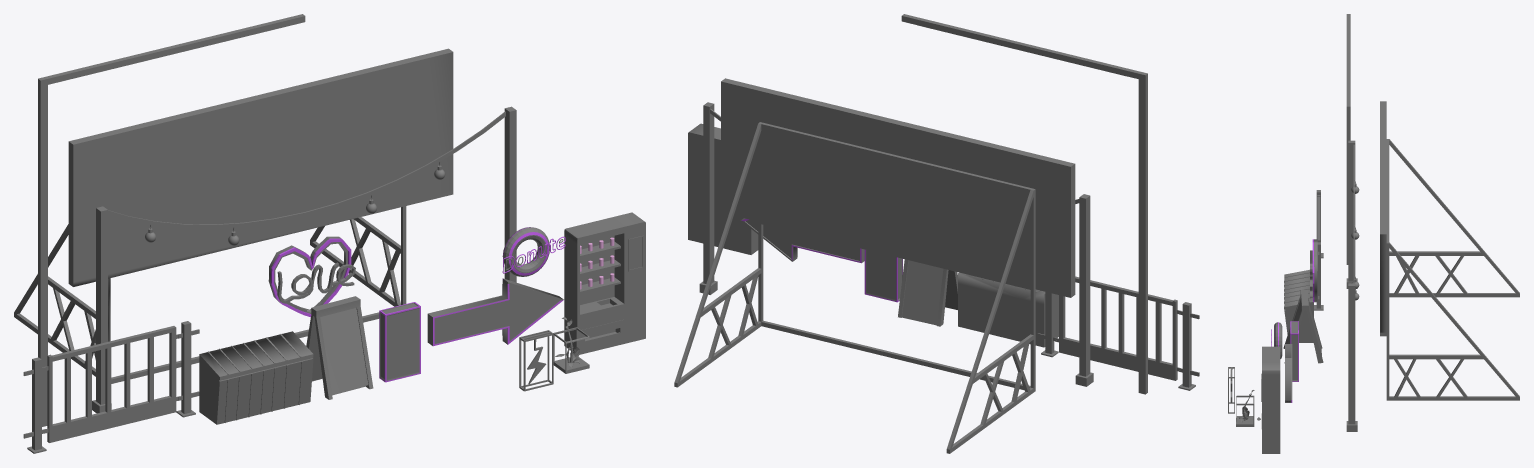
The model's file is Stage1_City Street_Environment Props.fbx.
3 views of the same model, side by side, from view 1: azimuth 30°, elevation 25°; view 2: azimuth 150°, elevation 25°; view 3: azimuth 270°, elevation 25° (orthographic). The views are drawn at different scales.
Parts seen in each view (by area): view 1: Props - Billboards 1, Props - Vending Machine, Props - Fence, Props - Rubbish Bin, Props - Hanging light bulbs, Props - Street light, Props - Advertising board 1, Props - Arrow, Props - Advertising board 2, Props - Donute, Props - Heart shape, Props - LOVE (+2 smaller); view 2: Props - Billboards 1, Props - Fence, Props - Street light, Props - Hanging light bulbs, Props - Rubbish Bin, Props - Vending Machine, Props - Advertising board 1, Props - Arrow, Props - Advertising board 2; view 3: Props - Billboards 1, Props - Hanging light bulbs, Props - Vending Machine, Props - Rubbish Bin, Props - Street light, Props - Advertising board 1, Props - Fence, Props - Advertising board 2, Props - Arrow, Props - Plant 1, Props - Heart shape.
Boxes of the visible parts, x1=… form: Props - Billboards 1: x1=14, y1=48, x2=453, y2=383; Props - Vending Machine: x1=564, y1=212, x2=645, y2=354; Props - Fence: x1=23, y1=321, x2=199, y2=453; Props - Rubbish Bin: x1=199, y1=331, x2=313, y2=424; Props - Hanging light bulbs: x1=92, y1=106, x2=516, y2=413; Props - Street light: x1=38, y1=14, x2=305, y2=426; Props - Advertising board 1: x1=306, y1=296, x2=373, y2=399; Props - Arrow: x1=427, y1=278, x2=563, y2=346; Props - Advertising board 2: x1=379, y1=302, x2=420, y2=382; Props - Donute: x1=502, y1=227, x2=565, y2=276; Props - Heart shape: x1=268, y1=236, x2=351, y2=317; Props - LOVE: x1=277, y1=262, x2=355, y2=303; Props - Billboards 1: x1=674, y1=78, x2=1075, y2=453; Props - Fence: x1=1037, y1=276, x2=1199, y2=390; Props - Street light: x1=901, y1=14, x2=1147, y2=394; Props - Hanging light bulbs: x1=699, y1=102, x2=1093, y2=386; Props - Rubbish Bin: x1=958, y1=272, x2=1058, y2=347; Props - Vending Machine: x1=688, y1=123, x2=758, y2=254; Props - Advertising board 1: x1=898, y1=259, x2=957, y2=326; Props - Arrow: x1=741, y1=218, x2=864, y2=263; Props - Advertising board 2: x1=864, y1=249, x2=902, y2=302; Props - Billboards 1: x1=1380, y1=101, x2=1519, y2=400; Props - Hanging light bulbs: x1=1346, y1=140, x2=1359, y2=431; Props - Vending Machine: x1=1261, y1=346, x2=1280, y2=453; Props - Rubbish Bin: x1=1284, y1=269, x2=1313, y2=342; Props - Street light: x1=1346, y1=14, x2=1350, y2=264; Props - Advertising board 1: x1=1283, y1=290, x2=1323, y2=363; Props - Fence: x1=1314, y1=190, x2=1323, y2=310; Props - Advertising board 2: x1=1290, y1=321, x2=1298, y2=381; Props - Arrow: x1=1285, y1=344, x2=1292, y2=402; Props - Plant 1: x1=1236, y1=390, x2=1260, y2=426; Props - Heart shape: x1=1312, y1=239, x2=1317, y2=302.
Bounding box in the file's own units: 12.74 × 7.31 × 7.72.
